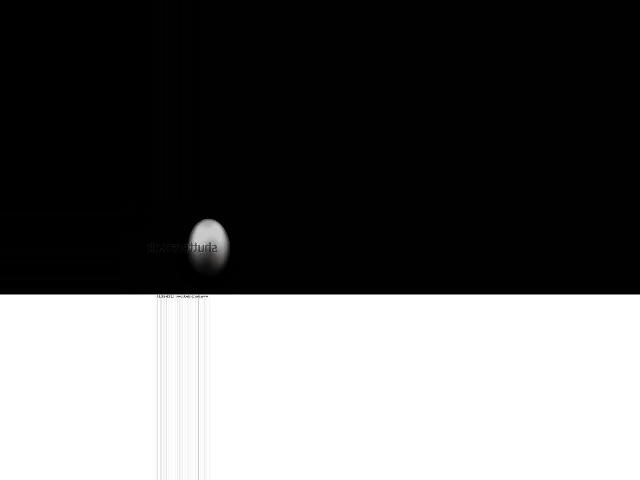egg: (187, 218, 230, 277)
